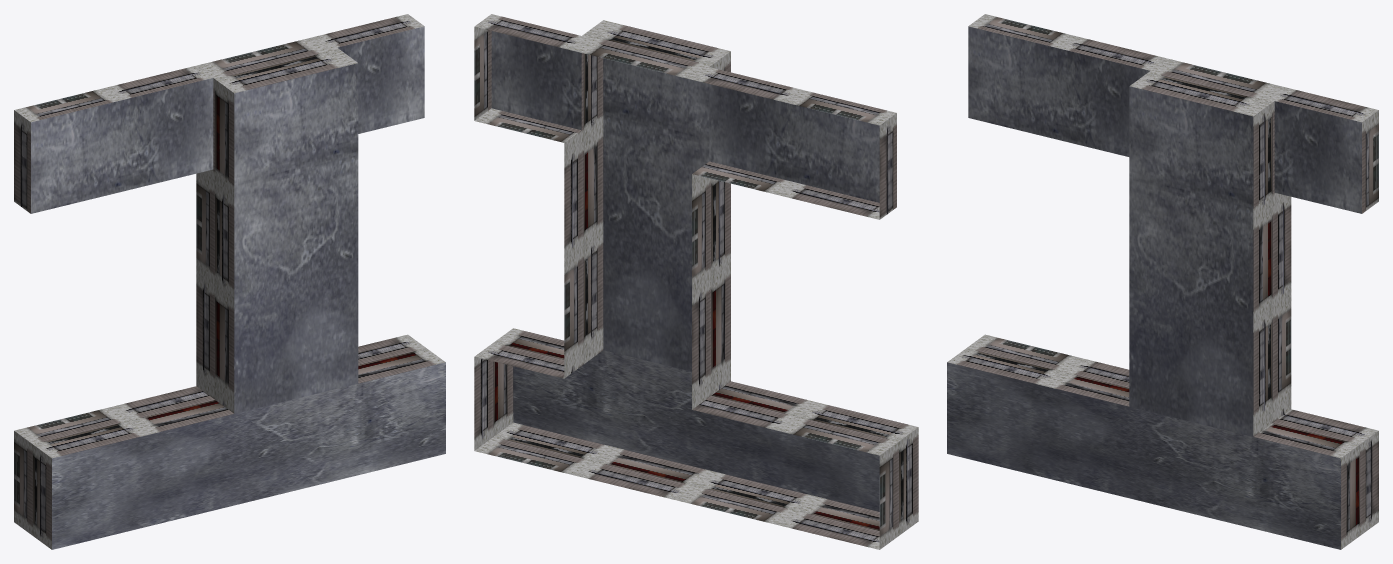
File: urbanconc01h_wtf.obj
3 views of the same model, side by side, from view 1: azimuth 30°, elevation 25°; view 2: azimuth 150°, elevation 25°; view 3: azimuth 330°, elevation 25° (orthographic). The views are drawn at different scales.
Parts seen in each view (by area): view 1: group4, group3; view 2: group4, group3; view 3: group4, group3.
Part boxes in pixels (x1,y1,x2,y2): group4: (31,26,445,549); group3: (14,14,445,549); group4: (491,31,879,511); group3: (474,14,918,549); group4: (947,26,1361,549); group3: (947,14,1378,549).
Size of the model in its own units: 660 by 660 by 110.
